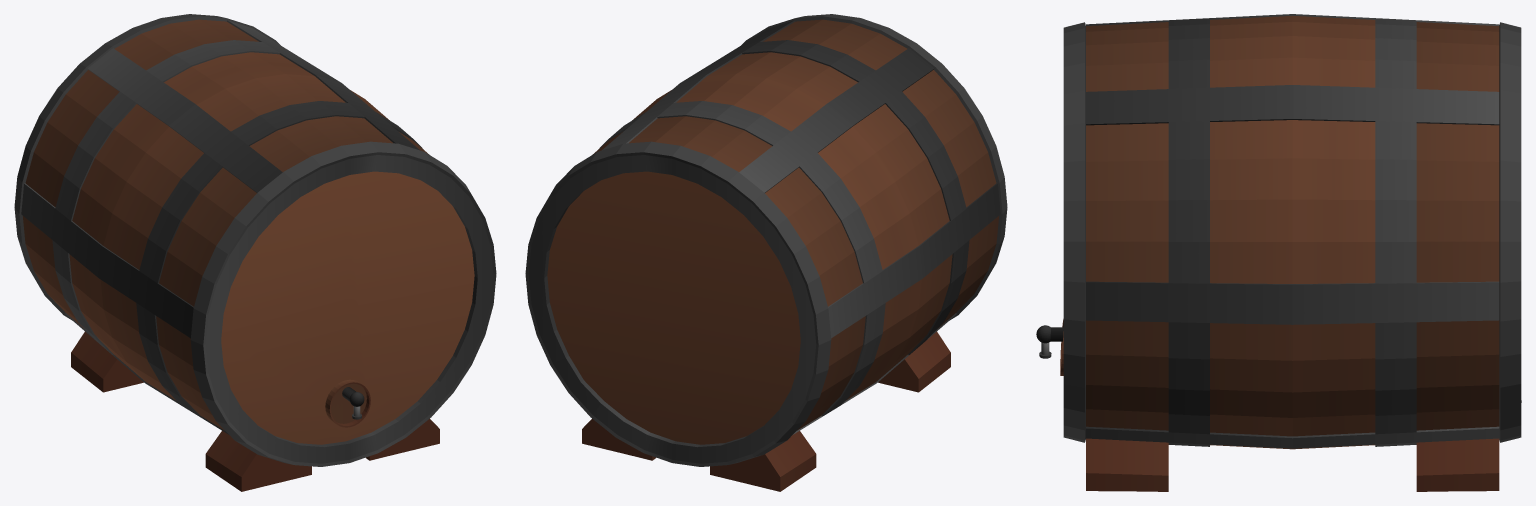
File: Large Dark Wooden Cask.fbx
The picture shows the model from 3 angles, left to right: view 1: azimuth 30°, elevation 25°; view 2: azimuth 150°, elevation 25°; view 3: azimuth 270°, elevation 25°; orthographic projection. The views are drawn at different scales.
Visible parts, largest first — view 1: Large Dark Wooden Cask; view 2: Large Dark Wooden Cask; view 3: Large Dark Wooden Cask.
Boxes of the visible parts, x1,y1,x2,y2 form: Large Dark Wooden Cask: (14, 14, 496, 491); Large Dark Wooden Cask: (525, 14, 1007, 491); Large Dark Wooden Cask: (1036, 14, 1521, 491).
Bounding box in the file's own units: 823 × 913 × 823.
1 material, 1 textured.
